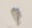microplastic: (10, 6, 22, 26)
